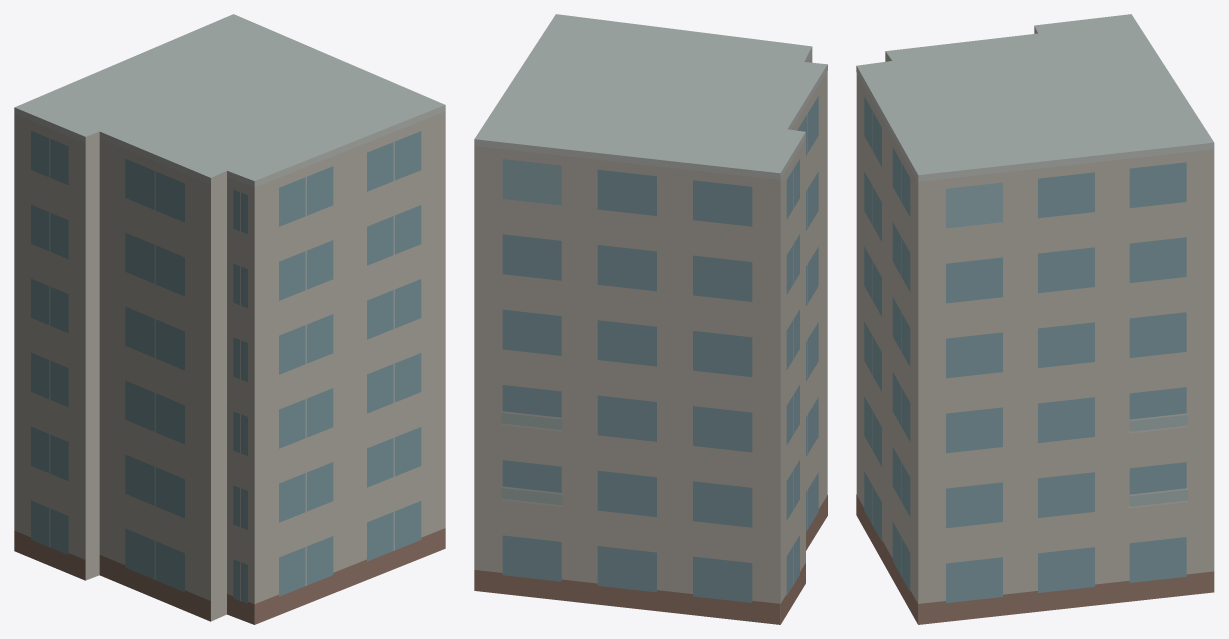
File: survey-upis-32762051.glb
3 renders of one model, left to right at view 1: azimuth 30°, elevation 25°; view 2: azimuth 150°, elevation 25°; view 3: azimuth 270°, elevation 25°, orthographic.
Visible parts, largest first — view 1: survey-upis-32762051.tmp; view 2: survey-upis-32762051.tmp; view 3: survey-upis-32762051.tmp.
Boxes of the visible parts, x1,y1,x2,y2 form: survey-upis-32762051.tmp: [14, 14, 445, 624]; survey-upis-32762051.tmp: [474, 14, 827, 624]; survey-upis-32762051.tmp: [856, 14, 1214, 624].
Bounding box in the file's own units: 12.77 × 16.6 × 11.98.
